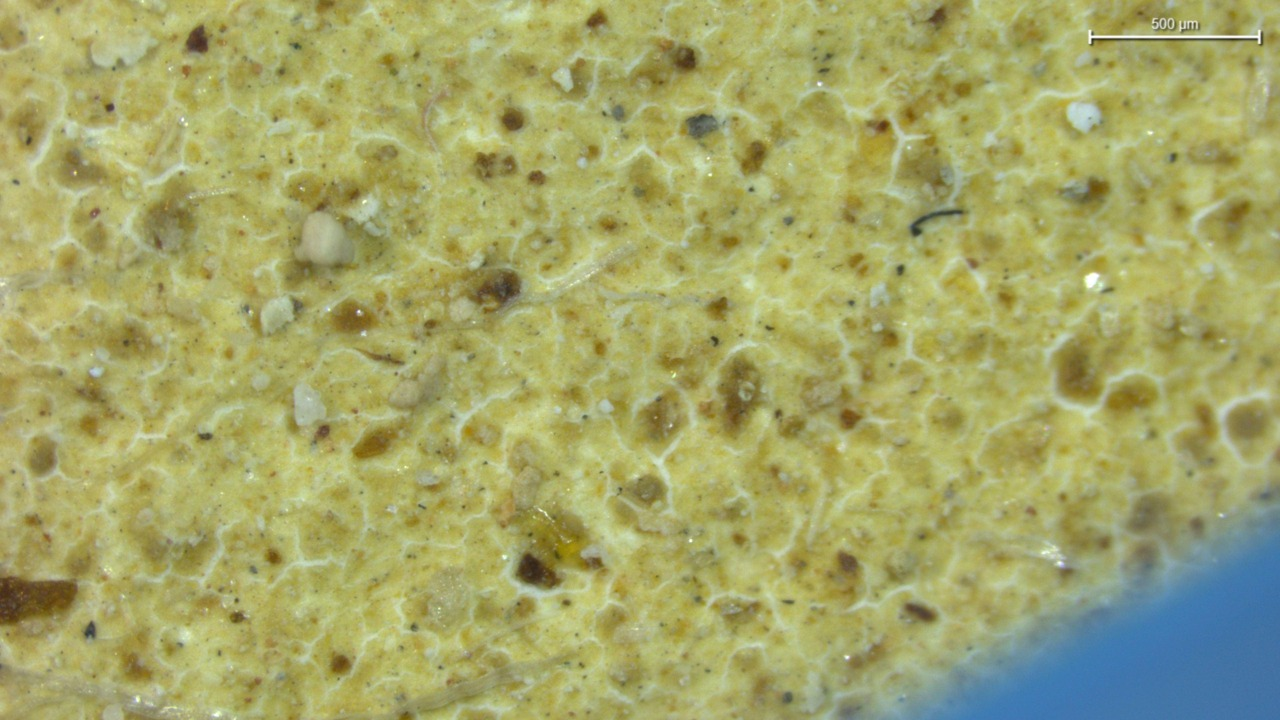microplastic_fragment: (293, 383, 326, 427), (1067, 102, 1101, 133)
